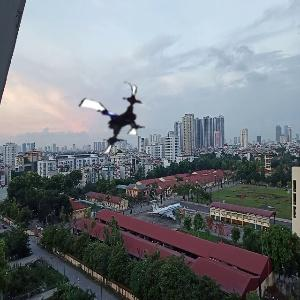drone: (71, 78, 153, 160)
